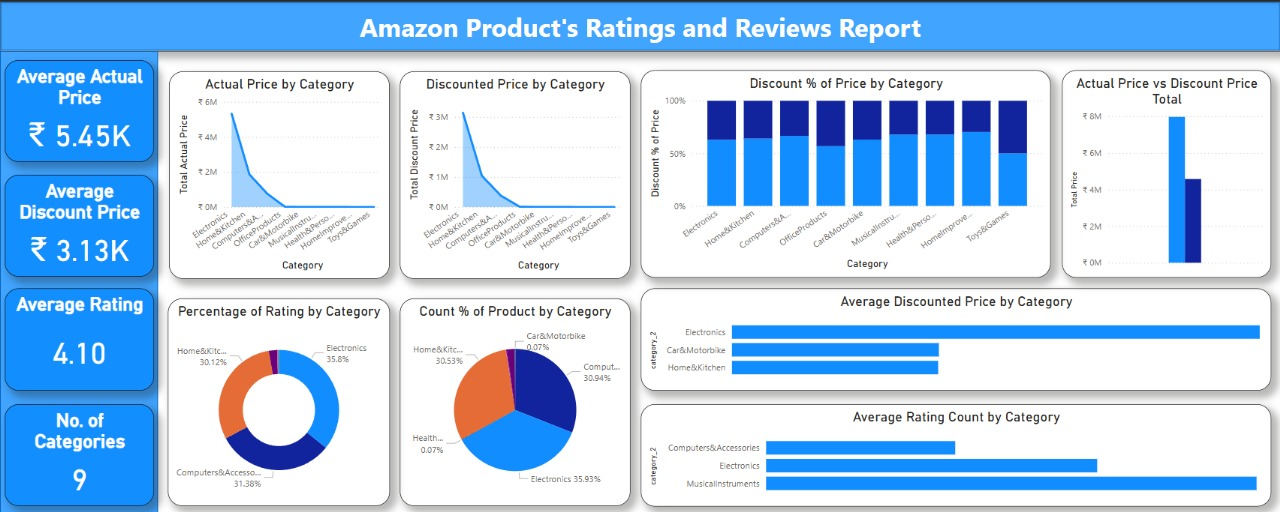

Layout of this report page (visuals, bound fields, positions):
{"tool":"powerbi","page":{"name":"Project","canvas":[1800,720],"ordinal":0},"visuals":[{"type":"shape","box":[0,0,1800,70],"z":0},{"type":"shape","box":[0,69.6,221.8,650.9],"z":1000},{"type":"card","title":"Average Actual Price","fields":{"Values":["Avg(amazon.actual_price)"]},"box":[5.8,81.7,210,143.3],"z":2000},{"type":"card","title":"Average Discount Price","fields":{"Values":["Avg(amazon.discounted_price)"]},"box":[5.8,243.3,210,143.3],"z":3000},{"type":"card","title":"Average Rating","fields":{"Values":["Avg(amazon.rating)"]},"box":[5.8,404.2,210,144.2],"z":4000},{"type":"card","title":"No. of Categories","fields":{"Values":["Count(amazon.category_2)"]},"box":[5.8,565.8,210,143.3],"z":5000},{"type":"pieChart","title":"Count % of Product by Category","fields":{"Category":["amazon.category_2"],"Y":["CountNonNull(amazon.product_name_2)"]},"box":[562,418,324,292],"z":6000},{"type":"clusteredBarChart","title":"Average Rating Count by Category","fields":{"Category":["amazon.category_2"],"Y":["Avg(amazon.rating_count)"]},"box":[900,566,886,144],"z":7000},{"type":"donutChart","title":"Percentage of Rating by Category","fields":{"Category":["amazon.category_2"],"Y":["Sum(amazon.rating)"]},"box":[236,418,312,292],"z":8000},{"type":"clusteredBarChart","title":"Average Discounted Price by Category","fields":{"Category":["amazon.category_2"],"Y":["Avg(amazon.discounted_price)"]},"box":[900,404,886,144],"z":9000},{"type":"clusteredColumnChart","title":"Actual Price vs Discount Price Total","fields":{"Y":["Sum(amazon.actual_price)","Sum(amazon.discounted_price)"]},"box":[1492,96,294,292],"z":10000},{"type":"areaChart","title":"Actual Price by Category","fields":{"Y":["Sum(amazon.actual_price)"],"Category":["amazon.category_2"]},"box":[238,98,310,292],"z":11000},{"type":"areaChart","title":"Discounted Price by Category","fields":{"Category":["amazon.category_2"],"Y":["Sum(amazon.discounted_price)"]},"box":[562,98,324,292],"z":12000},{"type":"hundredPercentStackedColumnChart","title":"Discount % of Price by Category","fields":{"Y":["Sum(amazon.actual_price)","Sum(amazon.discounted_price)"],"Category":["amazon.category_2"]},"box":[900,96,576,292],"z":13000}]}

Visuals, with their boxes in screenshot pixels (x1, y1, x2, y2), scaled from the page's 1800x720 canvas onto the 1280x512 screenshot:
shape: rect(0, 0, 1279, 50)
shape: rect(0, 49, 158, 511)
"Average Actual Price" card: rect(4, 58, 153, 160)
"Average Discount Price" card: rect(4, 173, 153, 275)
"Average Rating" card: rect(4, 287, 153, 390)
"No. of Categories" card: rect(4, 402, 153, 504)
"Count % of Product by Category" pieChart: rect(400, 297, 630, 505)
"Average Rating Count by Category" clusteredBarChart: rect(640, 402, 1270, 505)
"Percentage of Rating by Category" donutChart: rect(168, 297, 390, 505)
"Average Discounted Price by Category" clusteredBarChart: rect(640, 287, 1270, 390)
"Actual Price vs Discount Price Total" clusteredColumnChart: rect(1061, 68, 1270, 276)
"Actual Price by Category" areaChart: rect(169, 70, 390, 277)
"Discounted Price by Category" areaChart: rect(400, 70, 630, 277)
"Discount % of Price by Category" hundredPercentStackedColumnChart: rect(640, 68, 1050, 276)
